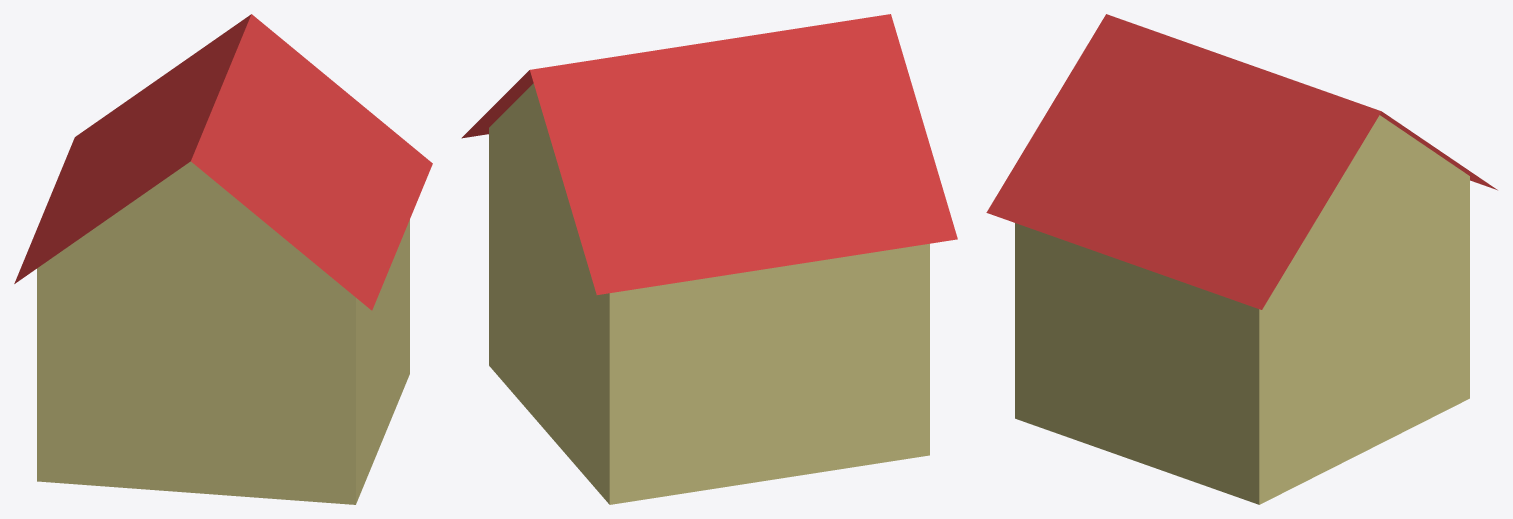
3 views of the same model, side by side, from view 1: azimuth 30°, elevation 25°; view 2: azimuth 150°, elevation 25°; view 3: azimuth 270°, elevation 25° (orthographic). The views are drawn at different scales.
Bounding box in the file's own units: 18.99 × 18.95 × 14.09.
